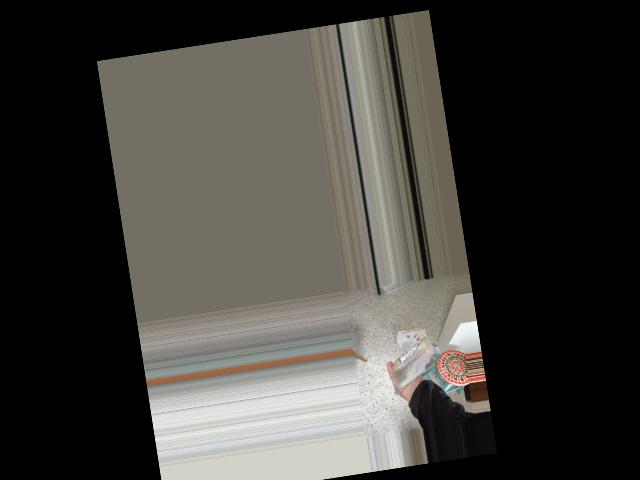cheese: (377, 317, 463, 400)
